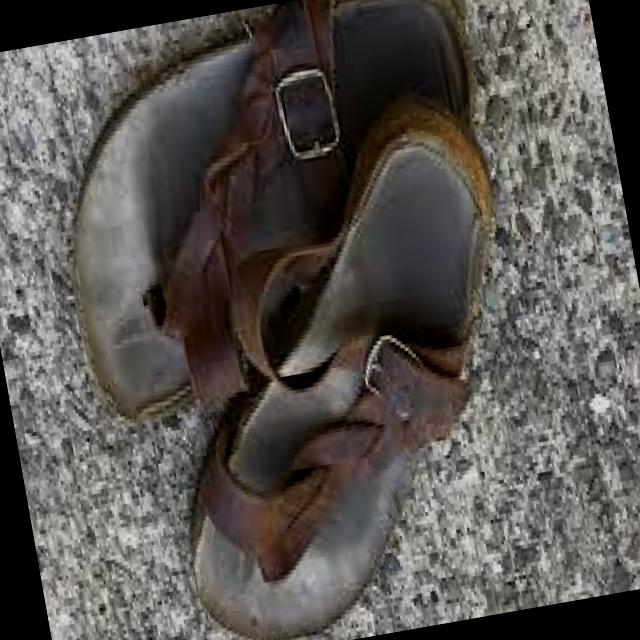giay: (71, 0, 469, 422), (190, 95, 491, 640)
